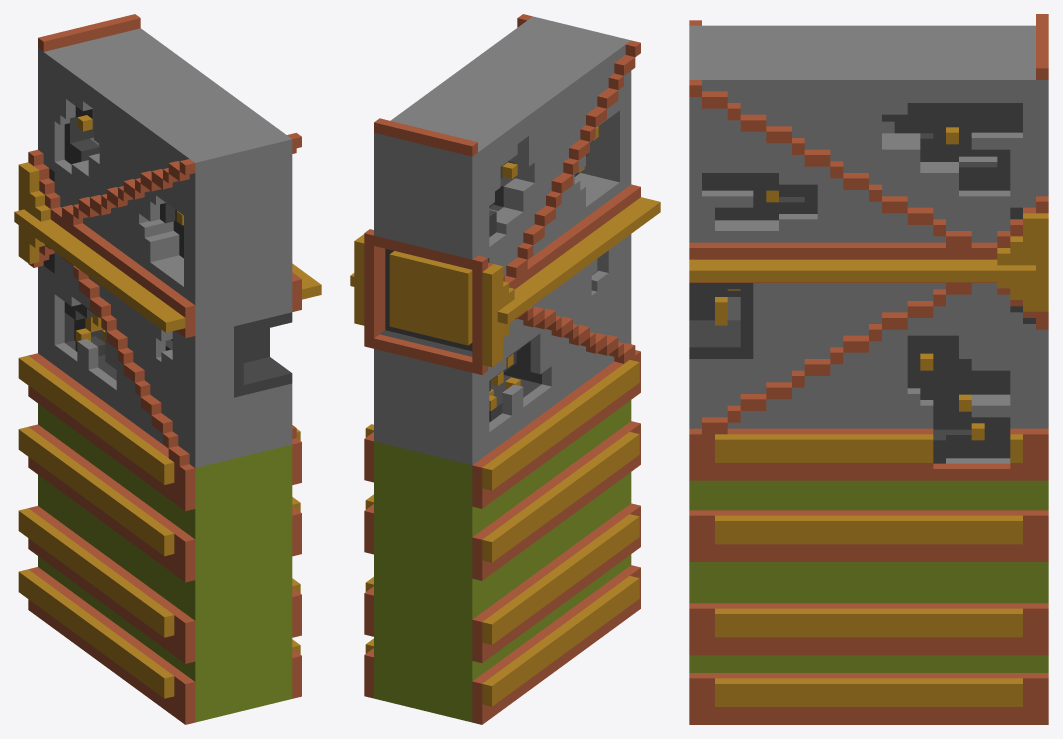
File: door-0.obj
3 views of the same model, side by side, from view 1: azimuth 30°, elevation 25°; view 2: azimuth 150°, elevation 25°; view 3: azimuth 270°, elevation 25° (orthographic). The views are drawn at different scales.
Size of the model in its own units: 1.6 by 5.6 by 2.8.
1 material, 1 textured.
